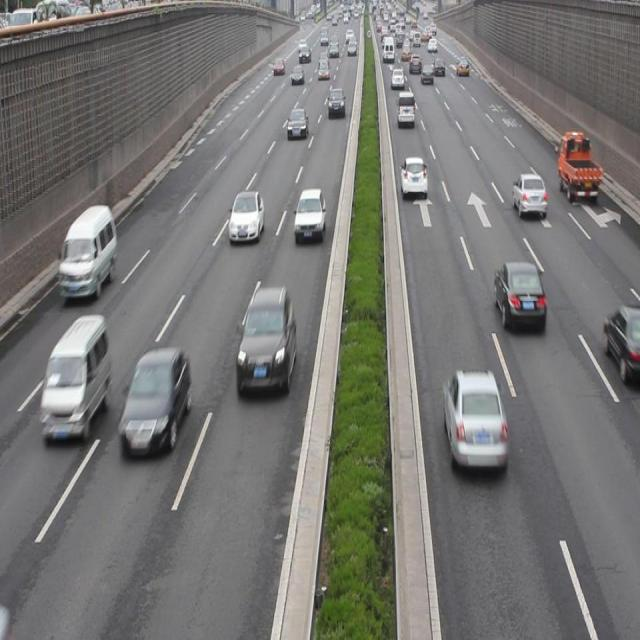bus: (557, 132, 600, 202)
car: (122, 348, 189, 457), (441, 366, 506, 474), (236, 287, 294, 397), (492, 262, 544, 331), (601, 303, 640, 376), (228, 192, 263, 242), (294, 188, 326, 240), (511, 174, 545, 216), (399, 156, 426, 200), (285, 108, 308, 140)
truck: (42, 316, 109, 444), (60, 208, 117, 298)
